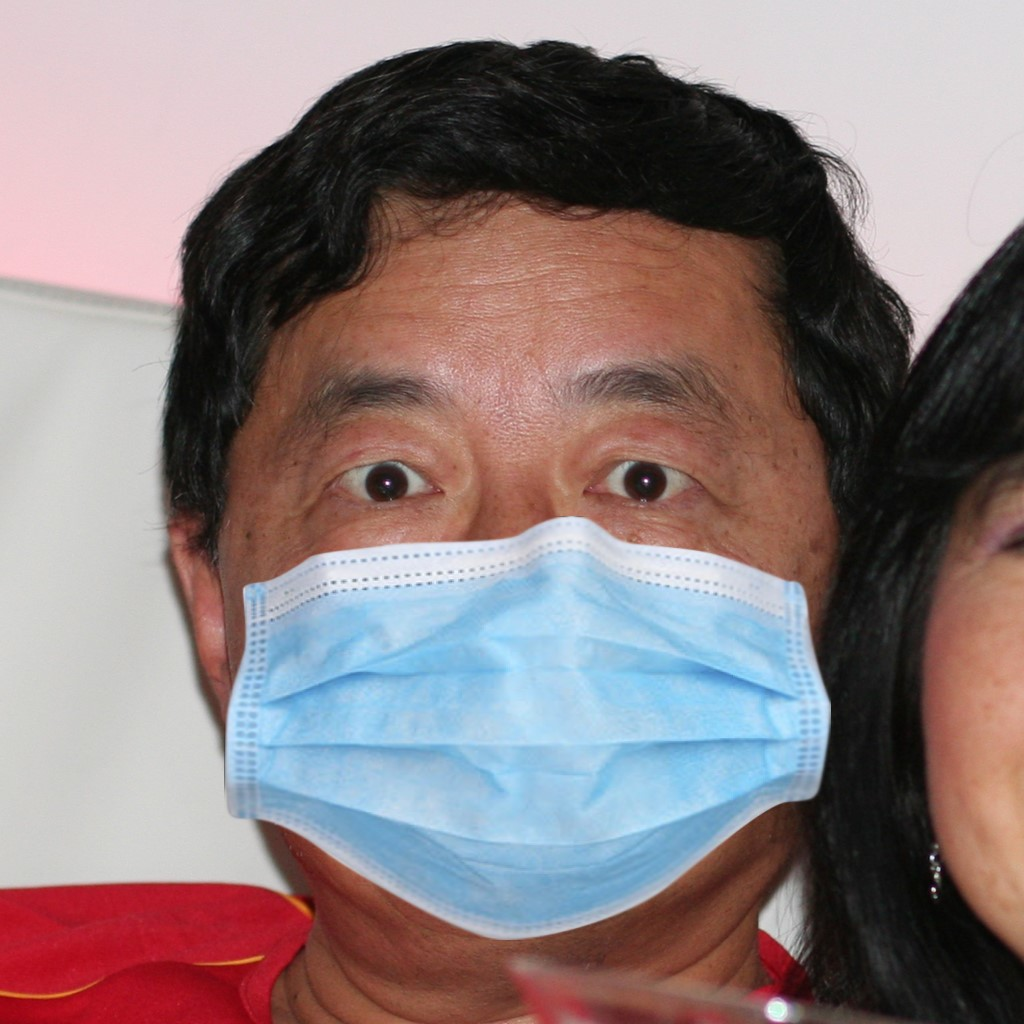con_mascara: (178, 162, 865, 940)
